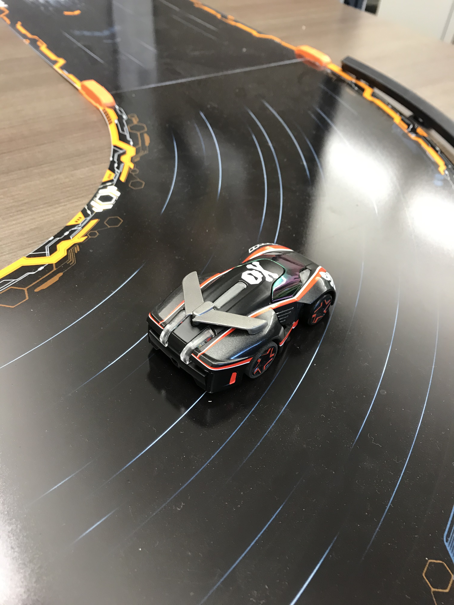Skull: (145, 240, 340, 388)
